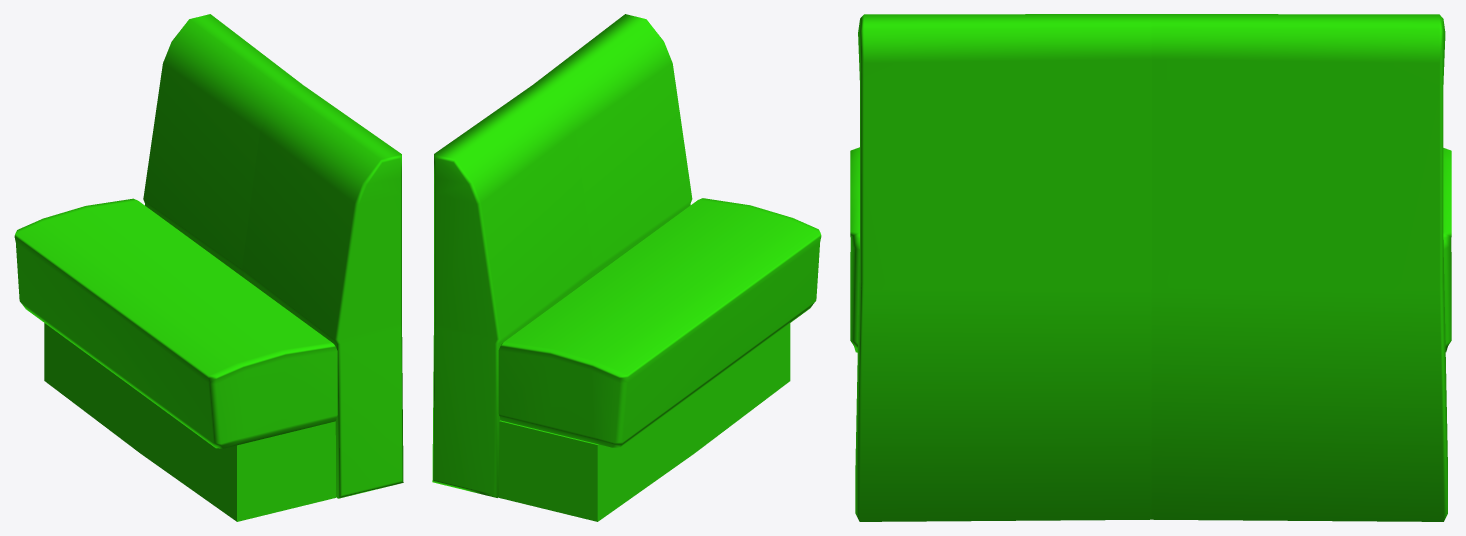
Rendered from Restaurant_Sofa_01_Lod0.fbx.
3 renders of one model, left to right at view 1: azimuth 30°, elevation 25°; view 2: azimuth 150°, elevation 25°; view 3: azimuth 270°, elevation 25°, orthographic. The views are drawn at different scales.
Parts seen in each view (by area): view 1: Restaurant_Sofa_01_Lod0; view 2: Restaurant_Sofa_01_Lod0; view 3: Restaurant_Sofa_01_Lod0.
Boxes of the visible parts, <box> form: Restaurant_Sofa_01_Lod0: <box>14,14,403,521</box>; Restaurant_Sofa_01_Lod0: <box>432,14,821,521</box>; Restaurant_Sofa_01_Lod0: <box>850,14,1451,521</box>.
Size of the model in its own units: 55.17 by 89.07 by 98.
